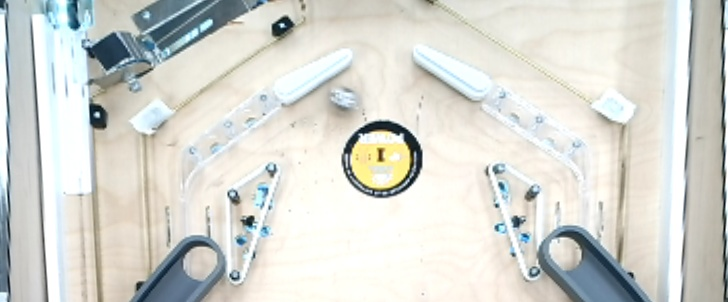ball: (325, 81, 358, 116)
flipper-left: (409, 41, 497, 107)
flipper-right: (269, 42, 358, 115)
